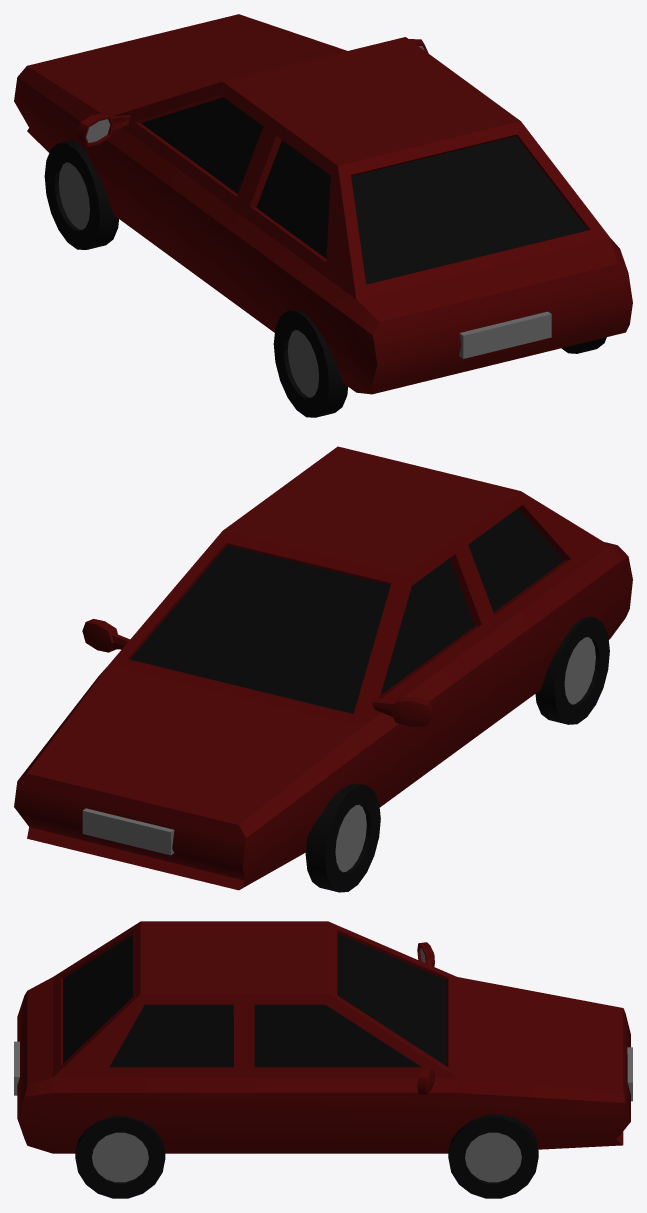
Rendered from Car_Red.fbx.
3 renders of one model, top to bottom at view 1: azimuth 30°, elevation 25°; view 2: azimuth 150°, elevation 25°; view 3: azimuth 270°, elevation 25°, orthographic. The views are drawn at different scales.
Visible parts, largest first — view 1: Car; view 2: Car; view 3: Car.
Part boxes in pixels (x1=…): Car: x1=14, y1=14, x2=632, y2=417; Car: x1=14, y1=446, x2=632, y2=892; Car: x1=14, y1=921, x2=632, y2=1198.
Size of the model in its own units: 232 by 437 by 144.
